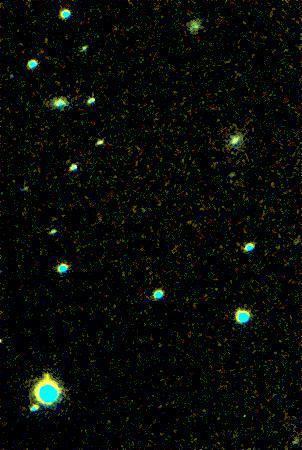star: (30, 362, 60, 392)
